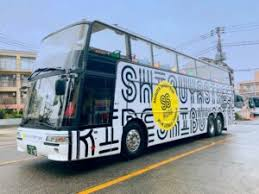bus: (15, 18, 236, 165)
